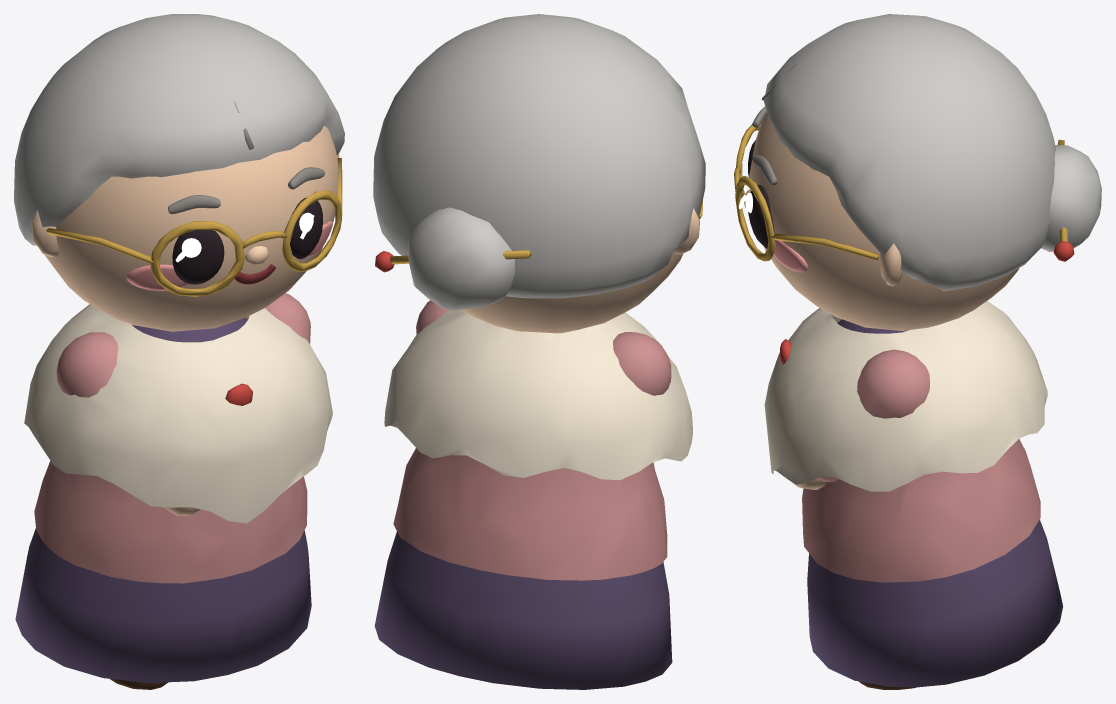
Rendered from npc_grandma.glb.
3 views of the same model, side by side, from view 1: azimuth 30°, elevation 25°; view 2: azimuth 150°, elevation 25°; view 3: azimuth 270°, elevation 25° (orthographic).
Parts seen in each view (by area): view 1: head_S_body, spine_S_body, chest_S_body, head_S_eye_dot, uarm_R, head_S_cheek_blush, uarm_L, head_S_brow_neutral; view 2: head_S_body, spine_S_body, chest_S_body, uarm_R, uarm_L; view 3: head_S_body, spine_S_body, chest_S_body, uarm_L, head_S_eye_dot, head_S_cheek_blush.
Boxes of the visible parts, left/top/right/bottom form: head_S_body: left=14, top=14, right=344, bottom=331; spine_S_body: left=15, top=317, right=311, bottom=682; chest_S_body: left=24, top=304, right=332, bottom=523; head_S_eye_dot: left=172, top=197, right=322, bottom=284; uarm_R: left=56, top=332, right=118, bottom=397; head_S_cheek_blush: left=126, top=221, right=332, bottom=290; uarm_L: left=246, top=293, right=310, bottom=343; head_S_brow_neutral: left=168, top=167, right=324, bottom=214; head_S_body: left=373, top=14, right=705, bottom=333; spine_S_body: left=374, top=448, right=672, bottom=689; chest_S_body: left=384, top=309, right=692, bottom=480; uarm_R: left=613, top=332, right=671, bottom=395; uarm_L: left=416, top=300, right=448, bottom=334; head_S_body: left=734, top=14, right=1101, bottom=330; spine_S_body: left=802, top=319, right=1063, bottom=687; chest_S_body: left=764, top=301, right=1047, bottom=491; uarm_L: left=857, top=349, right=929, bottom=418; head_S_eye_dot: left=745, top=140, right=774, bottom=248; head_S_cheek_blush: left=773, top=240, right=807, bottom=272.
Size of what is drawn, in the model's own units: 0.6509 by 1.3 by 0.6889.
